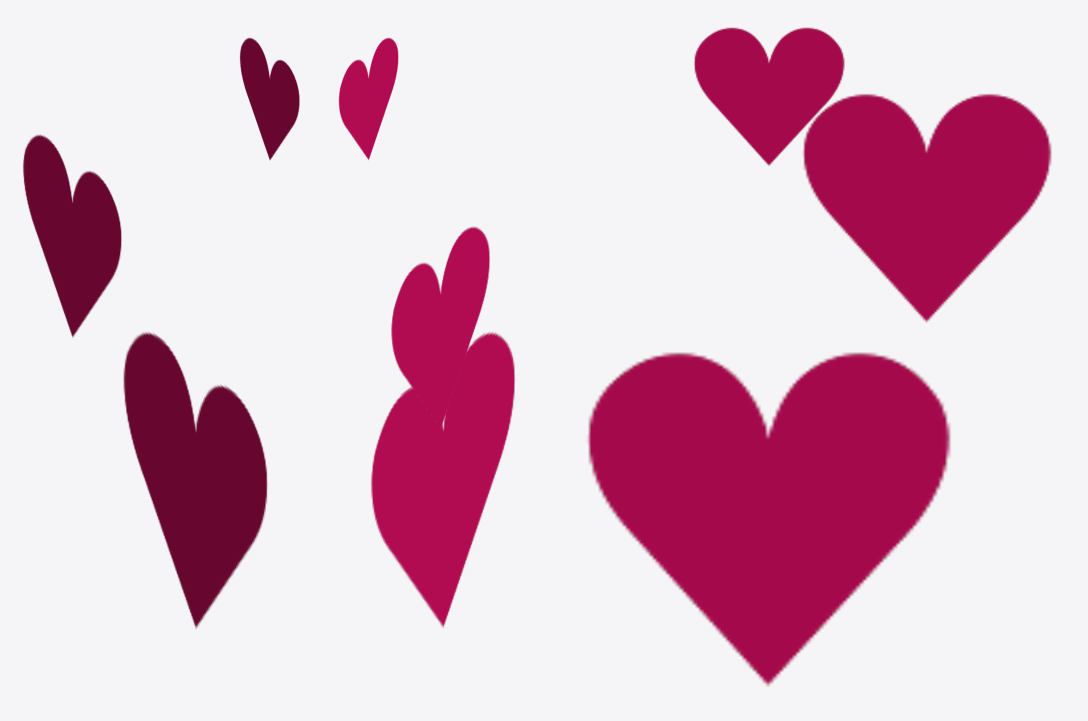
Rendered from love.glb.
3 renders of one model, left to right at view 1: azimuth 30°, elevation 25°; view 2: azimuth 150°, elevation 25°; view 3: azimuth 270°, elevation 25°, orthographic. The views are drawn at different scales.
Visible parts, largest first — view 1: love.png__; view 2: love.png__; view 3: love.png__.
Boxes of the visible parts, x1,y1,x2,y2 form: love.png__: (23,38,299,628); love.png__: (339,38,514,627); love.png__: (588,27,1051,685).
Bounding box in the file's own units: 1.3 × 5.41 × 3.44.
Materials: 1 (1 with a texture image).
